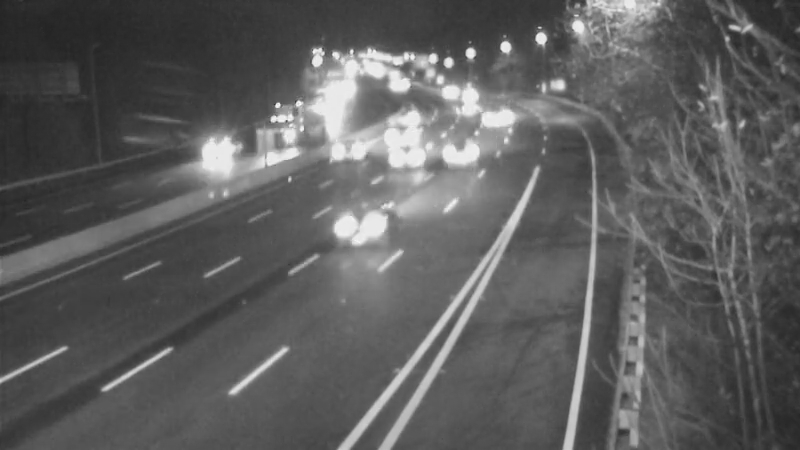vehicle: (369, 117, 449, 197), (315, 188, 395, 268), (418, 65, 468, 115), (446, 69, 496, 119), (436, 83, 486, 133), (385, 91, 435, 141), (469, 97, 519, 147), (378, 109, 428, 159), (439, 125, 489, 175), (328, 123, 378, 173), (192, 121, 242, 171), (260, 106, 310, 156)
